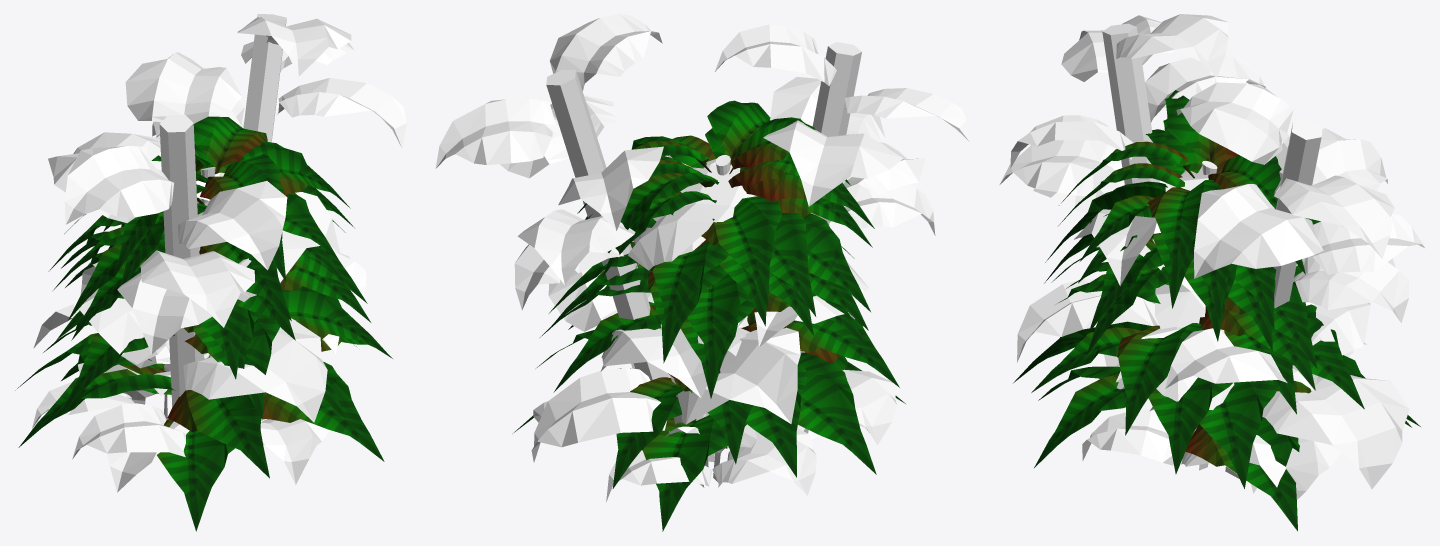
The model's file is bush_01.fbx.
The picture shows the model from 3 angles, left to right: view 1: azimuth 30°, elevation 25°; view 2: azimuth 150°, elevation 25°; view 3: azimuth 270°, elevation 25°; orthographic projection. The views are drawn at different scales.
Visible parts, largest first — view 1: bush_01b, bush_01c, bush_01d, bush_01a; view 2: bush_01b, bush_01c, bush_01a, bush_01d; view 3: bush_01b, bush_01c, bush_01a, bush_01d.
Boxes of the visible parts, x1,y1,x2,y2 form: bush_01b: (48,14,406,459); bush_01c: (15,116,392,531); bush_01d: (53,143,370,398); bush_01a: (32,303,329,492); bush_01b: (435,14,970,445); bush_01c: (514,100,905,531); bush_01a: (531,316,869,502); bush_01d: (547,128,872,398); bush_01b: (999,14,1425,499); bush_01c: (1013,90,1420,531); bush_01a: (1082,277,1409,493); bush_01d: (1044,119,1319,431).
Bounding box in the file's own units: 462 × 453 × 419.
